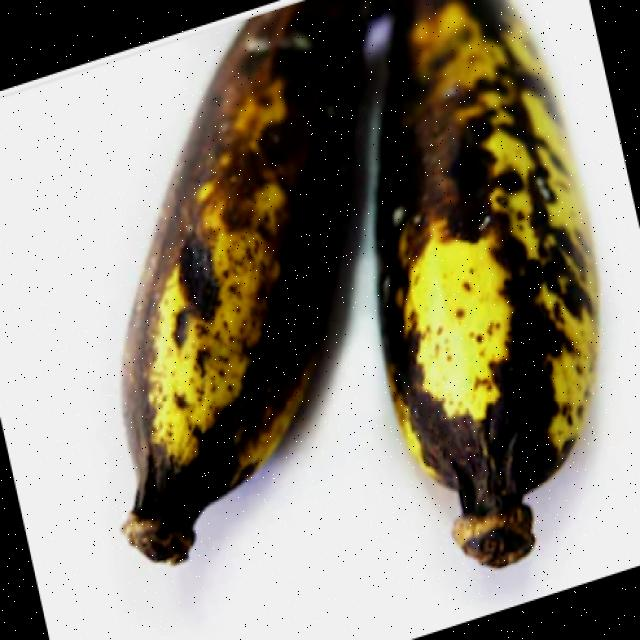Rotten: (105, 0, 373, 566), (354, 0, 602, 585)
